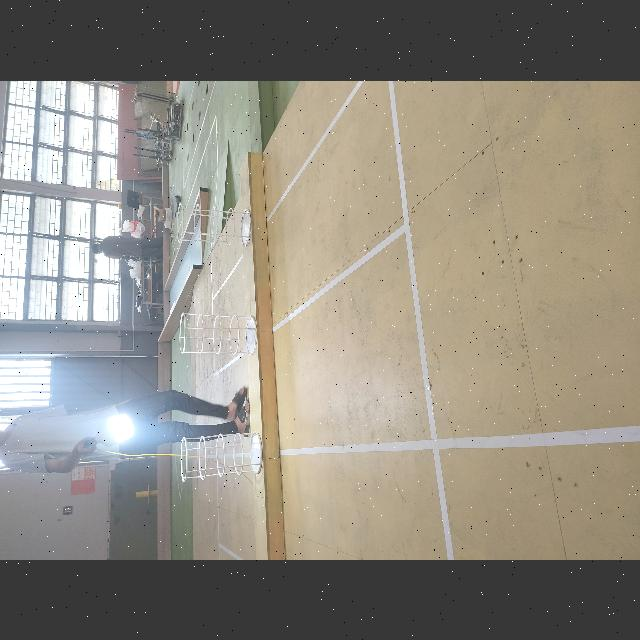S: (178, 431, 266, 483), (175, 312, 262, 356), (172, 205, 252, 245)
